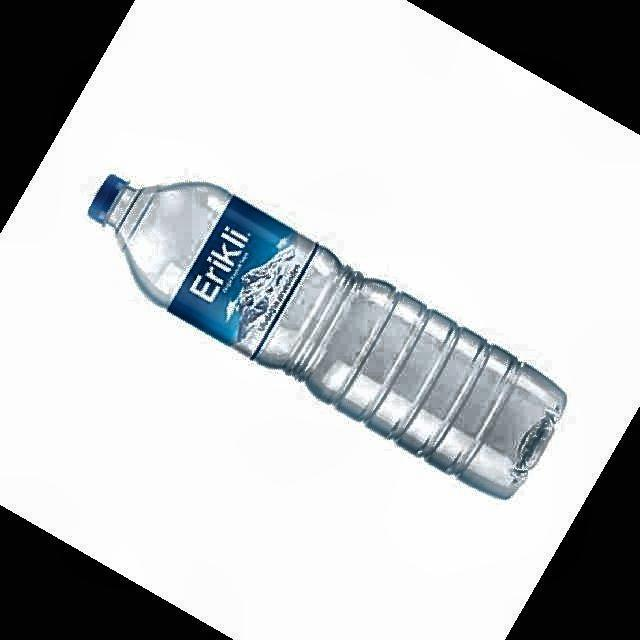plastic: (89, 175, 565, 498)
